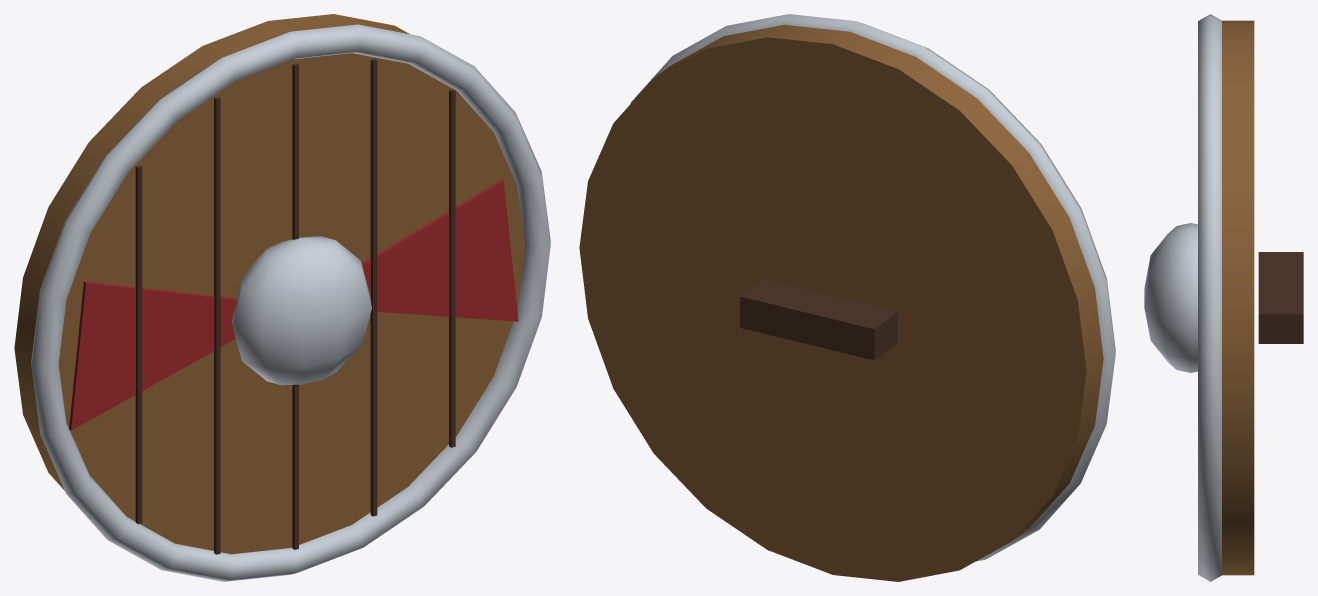
File: viking-shield.glb
3 renders of one model, left to right at view 1: azimuth 30°, elevation 25°; view 2: azimuth 150°, elevation 25°; view 3: azimuth 270°, elevation 25°, orthographic. The views are drawn at different scales.
Visible parts, largest first — view 1: WoodShield, IronRim, Boss, PlankSeam (×5), Paint-1, Paint1; view 2: WoodShield, IronRim, RearGrip; view 3: WoodShield, IronRim, Boss, RearGrip.
Part boxes in pixels (x1=…): WoodShield: x1=14, y1=14, x2=524, y2=554; IronRim: x1=31, y1=24, x2=550, y2=581; Boss: x1=232, y1=236, x2=371, y2=385; PlankSeam (×5): x1=135, y1=58, x2=455, y2=554; Paint-1: x1=69, y1=281, x2=236, y2=430; Paint1: x1=361, y1=179, x2=518, y2=321; WoodShield: x1=579, y1=24, x2=1103, y2=581; IronRim: x1=630, y1=14, x2=1115, y2=561; RearGrip: x1=740, y1=279, x2=897, y2=360; WoodShield: x1=1222, y1=20, x2=1254, y2=575; IronRim: x1=1198, y1=14, x2=1221, y2=581; Boss: x1=1144, y1=223, x2=1197, y2=372; RearGrip: x1=1258, y1=252, x2=1303, y2=343.
Bounding box in the file's own units: 0.696 × 0.696 × 0.1944.
